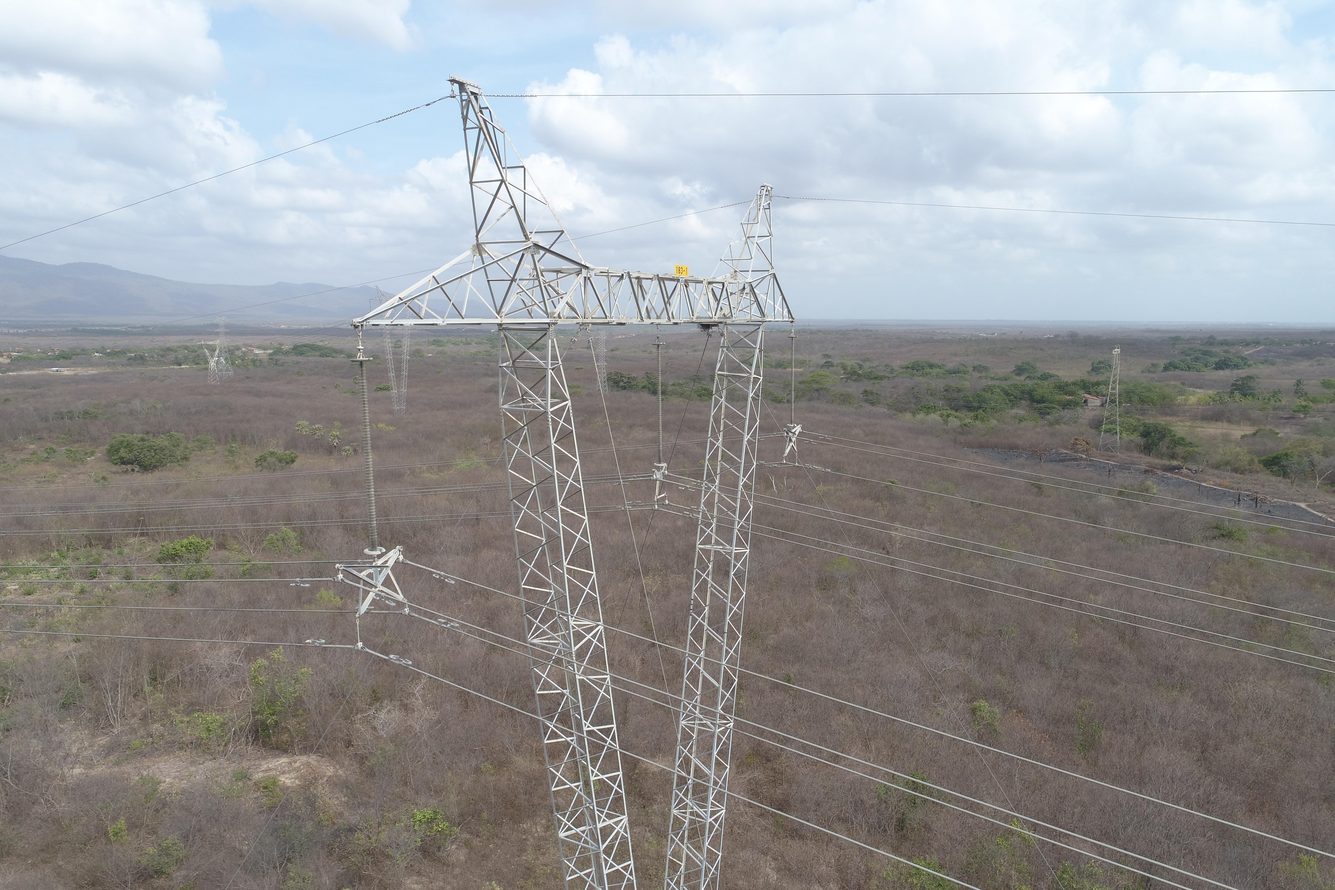power_tower: (344, 72, 804, 889), (367, 283, 423, 417), (1099, 336, 1126, 460), (591, 325, 614, 396), (213, 310, 236, 378), (199, 340, 222, 388)
